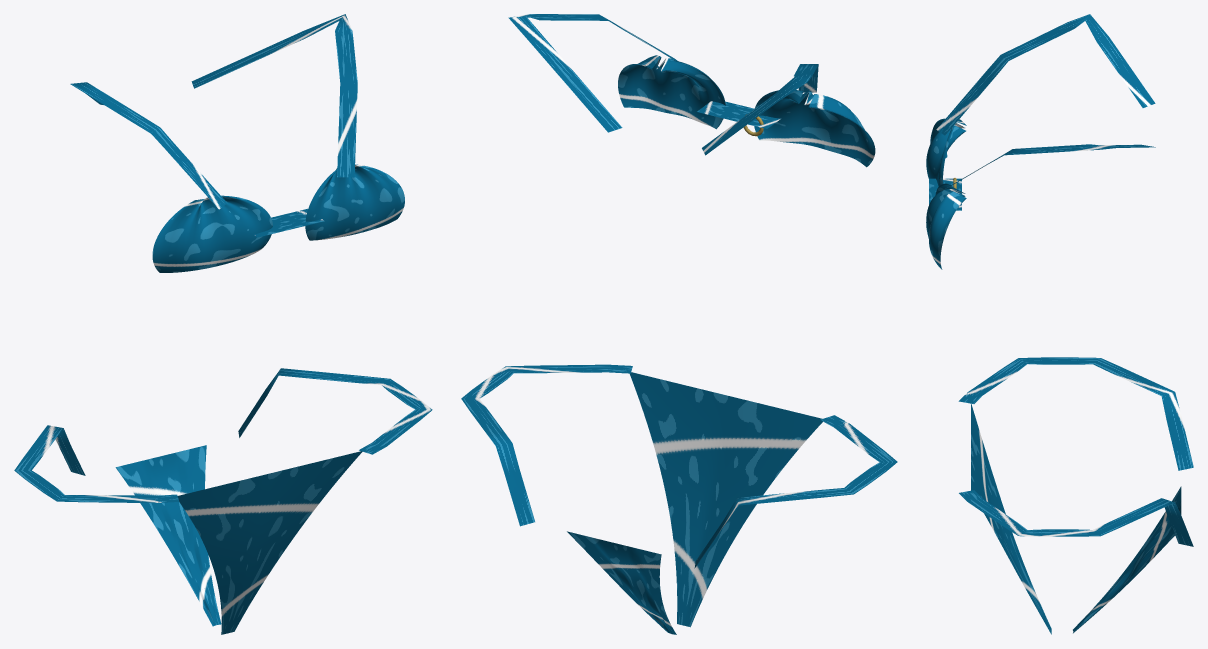
File: bikini_ecaf7afc.obj
3 views of the same model, side by side, from view 1: azimuth 30°, elevation 25°; view 2: azimuth 150°, elevation 25°; view 3: azimuth 270°, elevation 25° (orthographic). The views are drawn at different scales.
Visible parts, largest first — view 1: bottom_front_classic, bottom_back_brazilian, cup_left_scallop, cup_right_scallop, strap_right_shoulder, bottom_strap_left_tie, bottom_strap_right_tie, strap_left_shoulder, connector_band; view 2: bottom_front_classic, cup_left_scallop, cup_right_scallop, bottom_strap_right_tie, bottom_back_brazilian, strap_right_shoulder, bottom_strap_left_tie, strap_left_shoulder, connector_band; view 3: bottom_strap_left_tie, strap_left_shoulder, bottom_strap_right_tie, bottom_front_classic, bottom_back_brazilian, cup_right_scallop, cup_left_scallop, strap_right_shoulder.
Part boxes in pixels (x1,y1,x2,y2): bottom_front_classic: (177,451,362,634); bottom_back_brazilian: (115,445,221,626); cup_left_scallop: (152,195,272,272); cup_right_scallop: (305,164,404,240); strap_right_shoulder: (191,14,357,177); bottom_strap_left_tie: (14,425,179,502); bottom_strap_right_tie: (238,368,432,454); strap_left_shoulder: (70,82,227,209); connector_band: (254,208,324,237); bottom_front_classic: (630,372,822,627); cup_left_scallop: (754,90,875,167); cup_right_scallop: (618,55,725,129); bottom_strap_right_tie: (461,364,632,526); bottom_back_brazilian: (567,531,676,634); strap_right_shoulder: (508,14,677,132); bottom_strap_left_tie: (694,415,897,568); strap_left_shoulder: (702,64,818,155); connector_band: (697,101,780,128); bottom_strap_left_tie: (958,357,1193,470); strap_left_shoulder: (936,14,1155,135); bottom_strap_right_tie: (959,490,1193,546); bottom_front_classic: (971,404,1051,634); bottom_back_brazilian: (1073,486,1181,633); cup_right_scallop: (926,183,966,269); cup_left_scallop: (926,118,966,186); strap_right_shoulder: (938,144,1155,193).
Size of the model in its own units: 0.4474 by 0.643 by 0.2824.
Materials: 2 (1 with a texture image).
